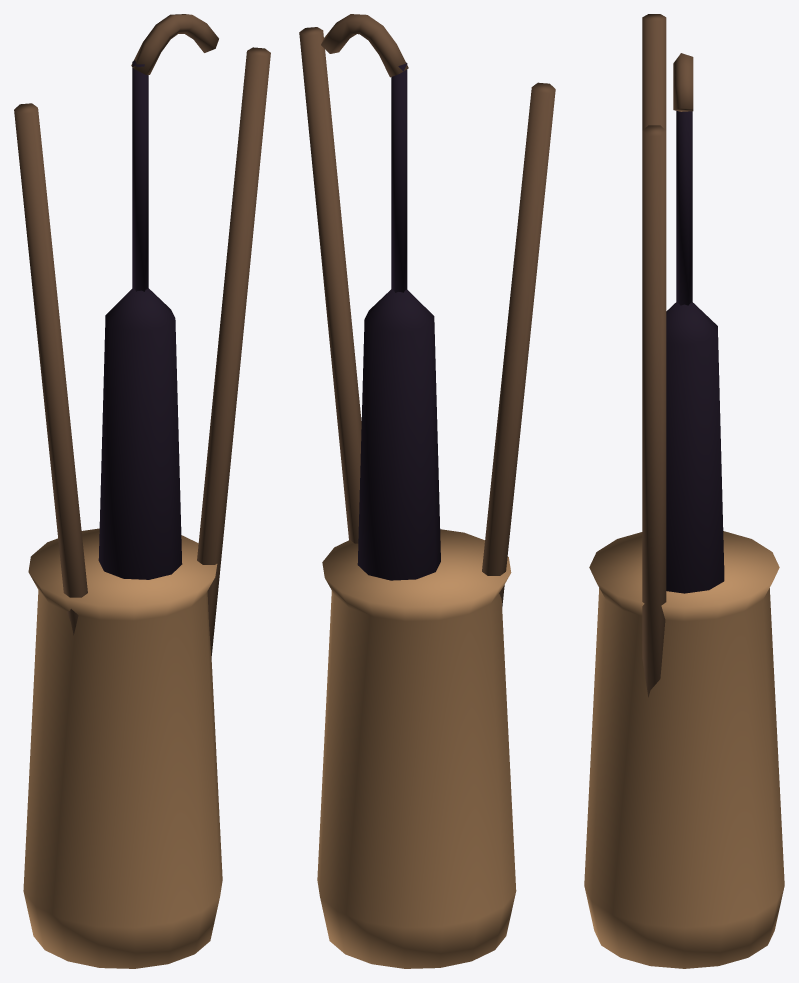
The model's file is umbrella_stand.glb.
3 renders of one model, left to right at view 1: azimuth 30°, elevation 25°; view 2: azimuth 150°, elevation 25°; view 3: azimuth 270°, elevation 25°, orthographic.
Visible parts, largest first — view 1: umbrella_stand; view 2: umbrella_stand; view 3: umbrella_stand.
Boxes of the visible parts, left/top/right/bottom form: umbrella_stand: left=14, top=14, right=270, bottom=968; umbrella_stand: left=299, top=14, right=555, bottom=968; umbrella_stand: left=584, top=14, right=784, bottom=968.
Bounding box in the file's own units: 0.2884 × 0.9929 × 0.2.
